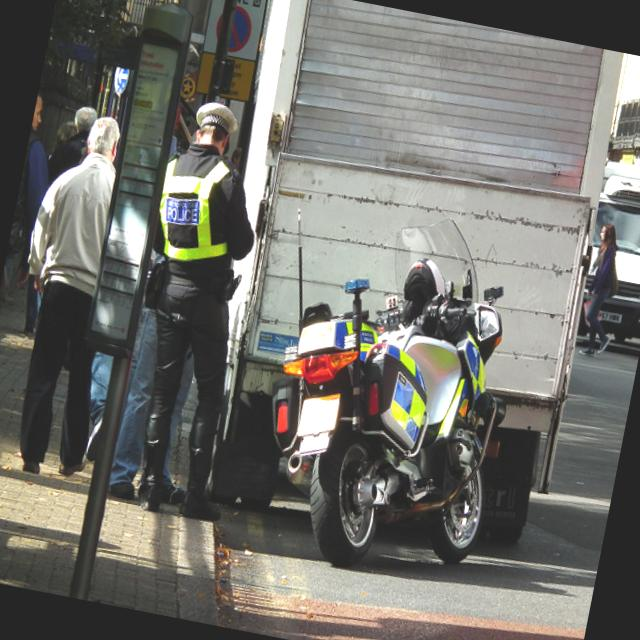Vehicle: (171, 0, 633, 568), (251, 189, 544, 586), (573, 155, 640, 361)
